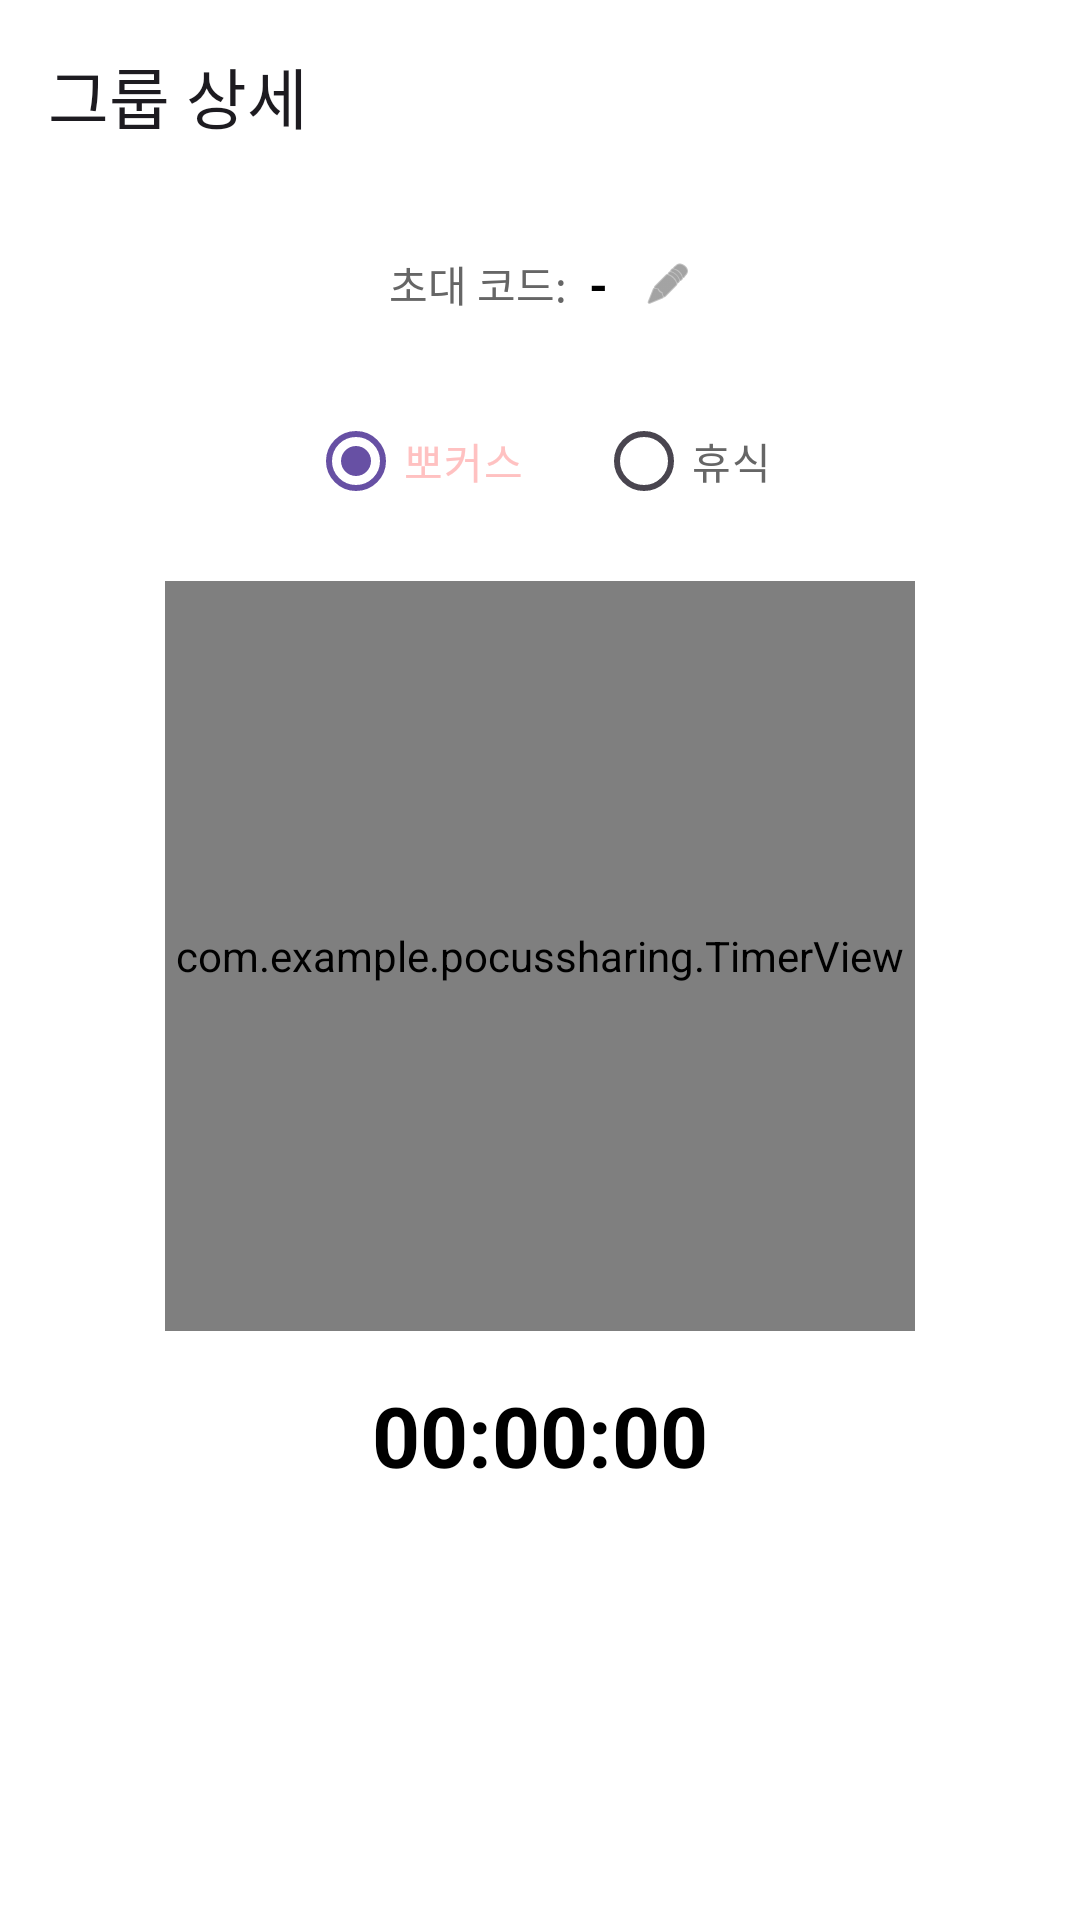

Icon bounding boxes for this 1080px×1920px phone screenshot, format (x1, y1, x2, y2):
edit: (648, 263, 688, 304)
